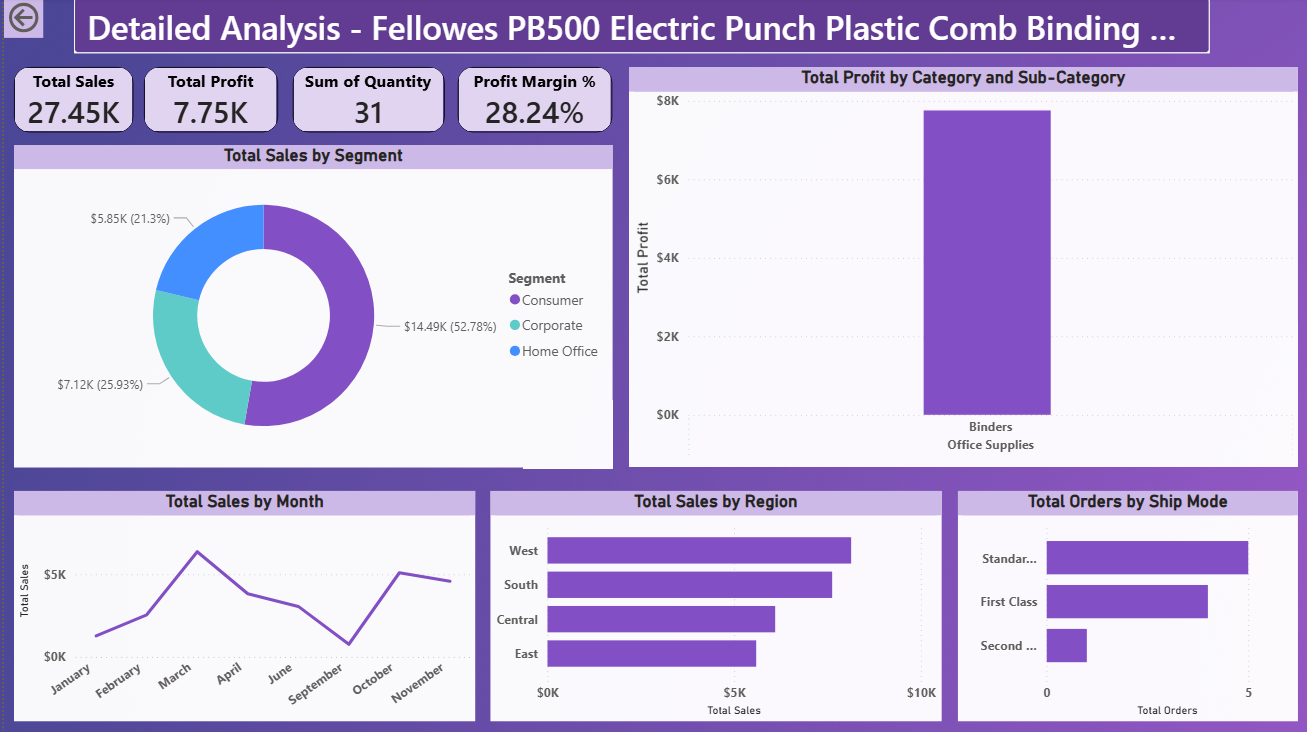

What the dashboard file says about the page in this screenshot:
{"tool":"powerbi","page":{"name":"Product Details Page","canvas":[1280,720],"ordinal":3},"visuals":[{"type":"donutChart","fields":{"Category":["Sample - Superstore.Segment"],"Y":["Sample - Superstore.Total Sales"]},"box":[10,144.3,585.7,315.7],"z":0},{"type":"actionButton","box":[0,0,38.6,40],"z":1000},{"type":"lineChart","fields":{"Category":["DateTable.Month"],"Y":["Sample - Superstore.Total Sales"]},"box":[10,482.9,451.4,225.7],"z":2000},{"type":"barChart","fields":{"Category":["Sample - Superstore.Region"],"Y":["Sample - Superstore.Total Sales"]},"box":[476,482.9,441.4,225.7],"z":3000},{"type":"columnChart","fields":{"Category":["Sample - Superstore.Category","Sample - Superstore.Sub-Category"],"Y":["Sample - Superstore.Total Profit"]},"box":[611.4,68.6,654.3,391.4],"z":4000},{"type":"barChart","fields":{"Category":["Sample - Superstore.Ship Mode"],"Y":["Sample - Superstore.Total Orders"]},"box":[932.9,482.9,332.9,225.7],"z":5000},{"type":"cardVisual","fields":{"Data":["Sample - Superstore.Total Sales"]},"box":[10,68.6,117.1,64.3],"z":6000},{"type":"cardVisual","fields":{"Data":["Sample - Superstore.Total Profit"]},"box":[137.1,68.6,131.4,64.3],"z":7000},{"type":"cardVisual","fields":{"Data":["Sum(Sample - Superstore.Quantity)"]},"box":[282.9,68.6,148.6,64.3],"z":8000},{"type":"cardVisual","fields":{"Data":["Sample - Superstore.Profit Margin %"]},"box":[444.3,68.6,151.4,64.3],"z":9000},{"type":"cardVisual","fields":{"Data":["Sample - Superstore.Product Detail Title"]},"box":[68.6,0,1111.4,55.7],"z":10000}]}

Visuals, with their boxes in screenshot pixels (x1, y1, x2, y2), scaled from the page's 1280x720 canvas onto the 1307x732 screenshot:
donutChart - Sample - Superstore.Segment x Sample - Superstore.Total Sales: rect(10, 147, 608, 468)
actionButton: rect(0, 0, 39, 41)
lineChart - DateTable.Month x Sample - Superstore.Total Sales: rect(10, 491, 471, 720)
barChart - Sample - Superstore.Region x Sample - Superstore.Total Sales: rect(486, 491, 937, 720)
columnChart - Sample - Superstore.Category x Sample - Superstore.Sub-Category: rect(624, 70, 1292, 468)
barChart - Sample - Superstore.Ship Mode x Sample - Superstore.Total Orders: rect(953, 491, 1293, 720)
cardVisual - Sample - Superstore.Total Sales: rect(10, 70, 130, 135)
cardVisual - Sample - Superstore.Total Profit: rect(140, 70, 274, 135)
cardVisual - Sum(Sample - Superstore.Quantity): rect(289, 70, 441, 135)
cardVisual - Sample - Superstore.Profit Margin %: rect(454, 70, 608, 135)
cardVisual - Sample - Superstore.Product Detail Title: rect(70, 0, 1205, 57)
